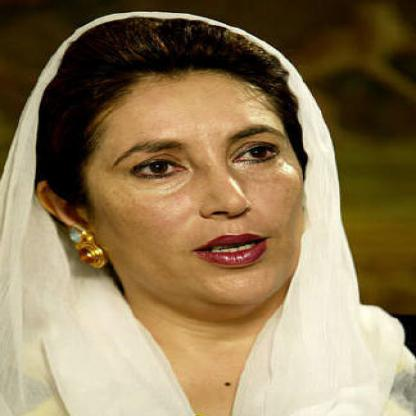face: (73, 28, 315, 315)
